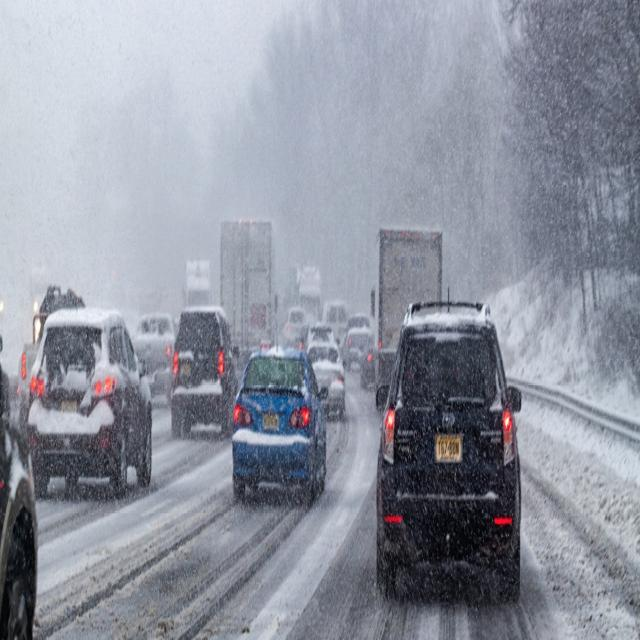bus: (372, 230, 442, 390), (217, 218, 277, 362), (291, 265, 320, 328), (185, 260, 211, 308)
car: (373, 292, 525, 605), (23, 306, 155, 499), (227, 346, 329, 507), (1, 411, 42, 639), (169, 305, 237, 439), (306, 337, 349, 419), (133, 313, 175, 380), (344, 316, 374, 376), (324, 302, 346, 341), (284, 307, 304, 336)
